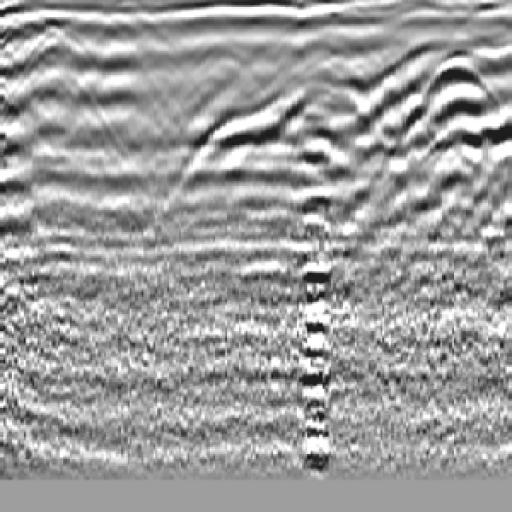non-metallic: (166, 72, 377, 209), (377, 34, 510, 210)
